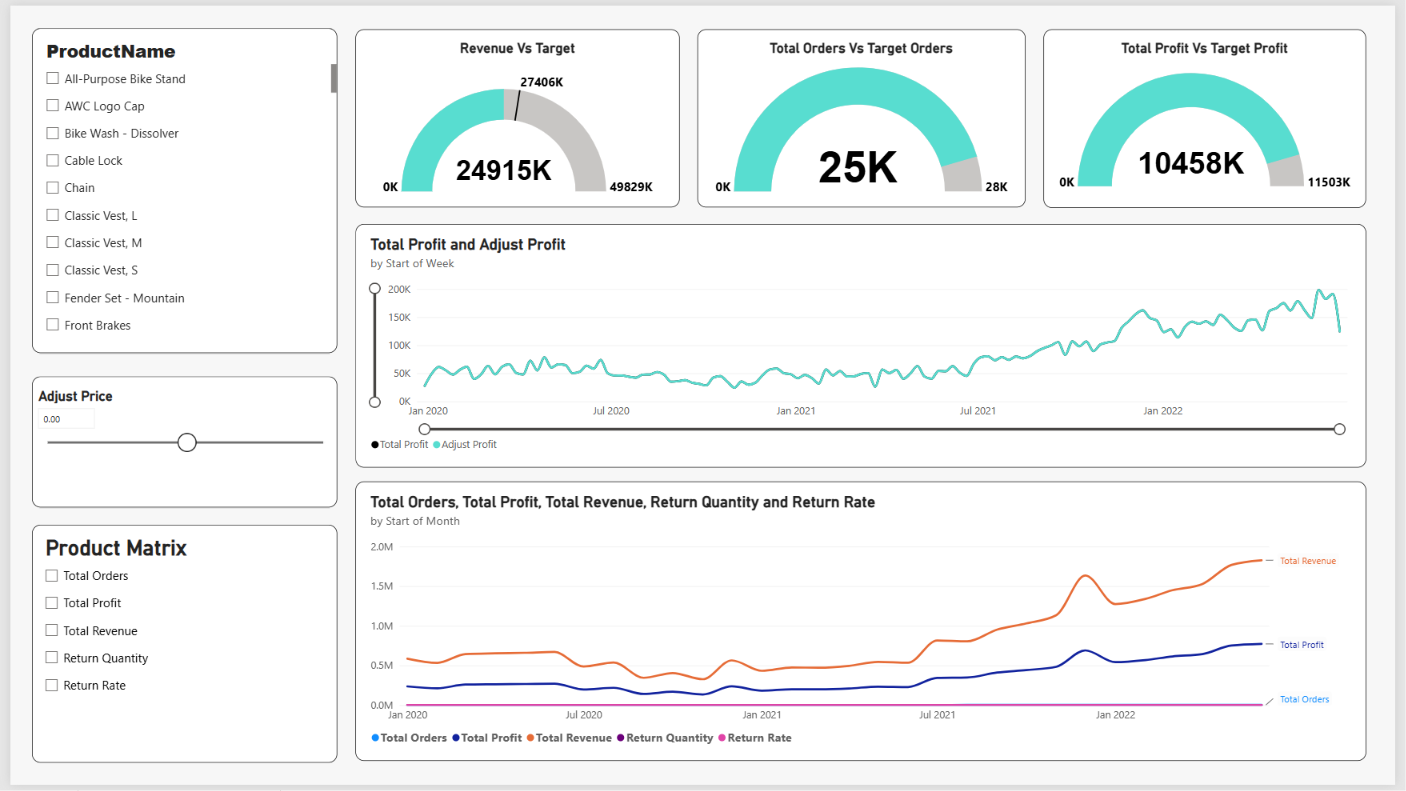

Layout of this report page (visuals, bound fields, positions):
{"tool":"powerbi","page":{"name":"Product","canvas":[1920,1080],"ordinal":3},"visuals":[{"type":"slicer","fields":{"Values":["Dim_Product Lookup.ProductName"]},"box":[29.6,31.9,423.4,450.7],"z":0},{"type":"gauge","title":"Revenue Vs Target","fields":{"TargetValue":["Measure.Target Revenue"],"Y":["Measure.Total Revenue"]},"box":[478.3,33.3,450,246.7],"z":1000},{"type":"gauge","title":"Total Orders Vs Target Orders","fields":{"MaxValue":["Measure.Target Orders"],"Y":["Measure.Total Orders"]},"box":[953.3,33.3,455,246.7],"z":2000},{"type":"gauge","title":"Total Profit Vs Target Profit","fields":{"MaxValue":["Measure.Target Profit"],"Y":["Measure.Total Profit"]},"box":[1432.5,32.5,447.5,247.5],"z":3000},{"type":"lineChart","fields":{"Category":["Dim_Calendar Lookup.Date1 Hierarchy.Year","Dim_Calendar Lookup.Date1 Hierarchy.Start of Quarter","Dim_Calendar Lookup.Date1 Hierarchy.Start of Month","Dim_Calendar Lookup.Date1 Hierarchy.Start of Week","Dim_Calendar Lookup.Date1 Hierarchy.Date"],"Y":["Measure.Total Profit","Measure.Adjust Profit"]},"box":[478.9,303.3,1402.2,337.8],"z":4000},{"type":"lineChart","fields":{"Category":["Dim_Calendar Lookup.Date1 Hierarchy.Year","Dim_Calendar Lookup.Date1 Hierarchy.Start of Quarter","Dim_Calendar Lookup.Date1 Hierarchy.Start of Month","Dim_Calendar Lookup.Date1 Hierarchy.Start of Week","Dim_Calendar Lookup.Date1 Hierarchy.Date"],"Y":["Measure.Total Orders","Measure.Total Profit","Measure.Total Revenue","Measure.Return Quantity","Measure.Return Rate"]},"box":[478.9,660,1402.2,387.8],"z":5000},{"type":"slicer","fields":{"Values":["Adjust Price .Adjust Price "]},"box":[29.6,514.5,423.4,182.1],"z":6000},{"type":"slicer","fields":{"Values":["Product Matrix.Product Matrix"]},"box":[29.6,719.3,423.4,330.1],"z":7000}]}

Visuals, with their boxes in screenshot pixels (x1, y1, x2, y2), scaled from the page's 1920x1080 canvas onto the 1406x791 screenshot:
slicer - Dim_Product Lookup.ProductName: region(22, 23, 332, 353)
"Revenue Vs Target" gauge: region(350, 24, 680, 205)
"Total Orders Vs Target Orders" gauge: region(698, 24, 1031, 205)
"Total Profit Vs Target Profit" gauge: region(1049, 24, 1377, 205)
lineChart - Dim_Calendar Lookup.Date1 Hierarchy.Year x Dim_Calendar Lookup.Date1 Hierarchy.Start of Quarter: region(351, 222, 1378, 470)
lineChart - Dim_Calendar Lookup.Date1 Hierarchy.Year x Dim_Calendar Lookup.Date1 Hierarchy.Start of Quarter: region(351, 483, 1378, 767)
slicer - Adjust Price .Adjust Price : region(22, 377, 332, 510)
slicer - Product Matrix.Product Matrix: region(22, 527, 332, 769)
